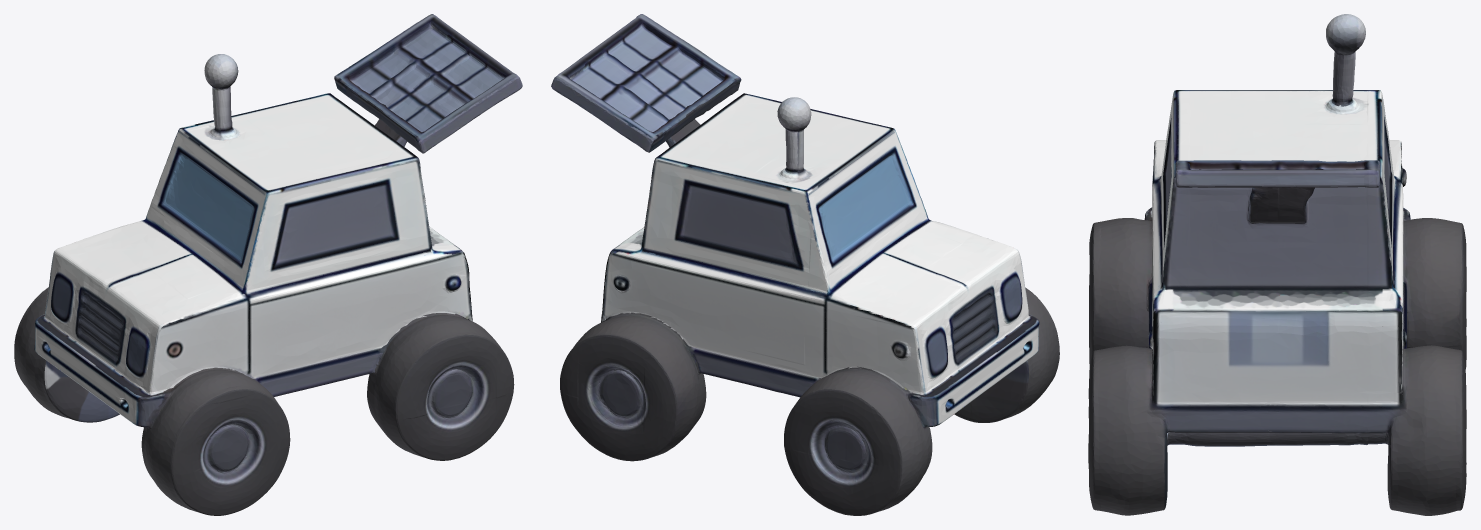
File: space_rover.glb
The picture shows the model from 3 angles, left to right: view 1: azimuth 30°, elevation 25°; view 2: azimuth 150°, elevation 25°; view 3: azimuth 270°, elevation 25°; orthographic projection. The views are drawn at different scales.
Visible parts, largest first — view 1: tmp9y7fk6cr.ply; view 2: tmp9y7fk6cr.ply; view 3: tmp9y7fk6cr.ply.
Boxes of the visible parts, x1,y1,x2,y2 form: tmp9y7fk6cr.ply: (14, 14, 522, 515); tmp9y7fk6cr.ply: (551, 14, 1059, 515); tmp9y7fk6cr.ply: (1088, 14, 1466, 515).
Bounding box in the file's own units: 1.99 × 1.74 × 1.42.
Materials: 1 (1 with a texture image).
